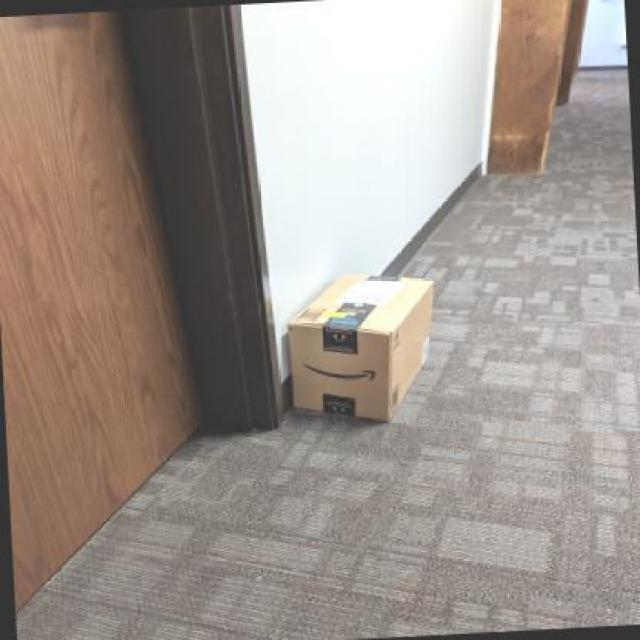box: (281, 268, 435, 431)
